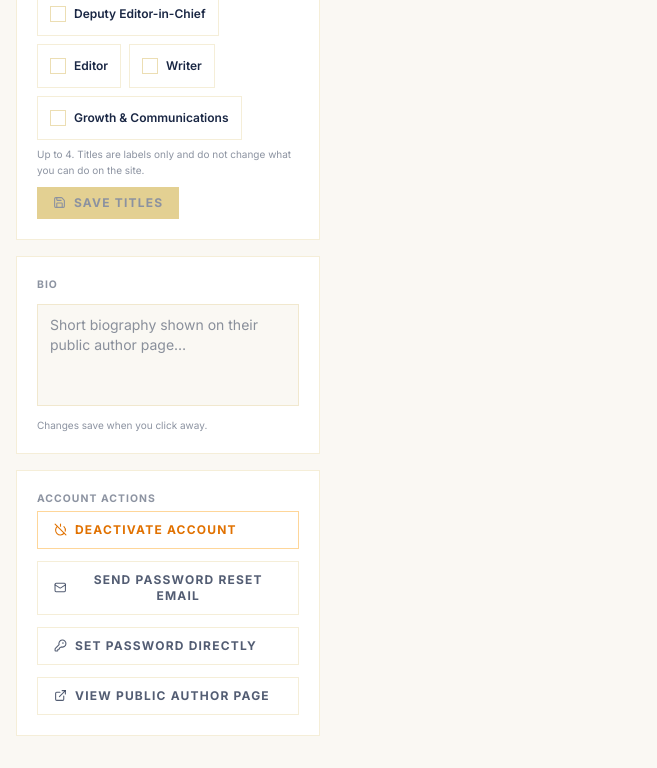
Test: an earlier success timer cannot erase a later password validation error
(page scrolled)
Click the button "Deactivate Account": coordinates (168, 530) [37, 511, 299, 549]
Wait 2900 ms
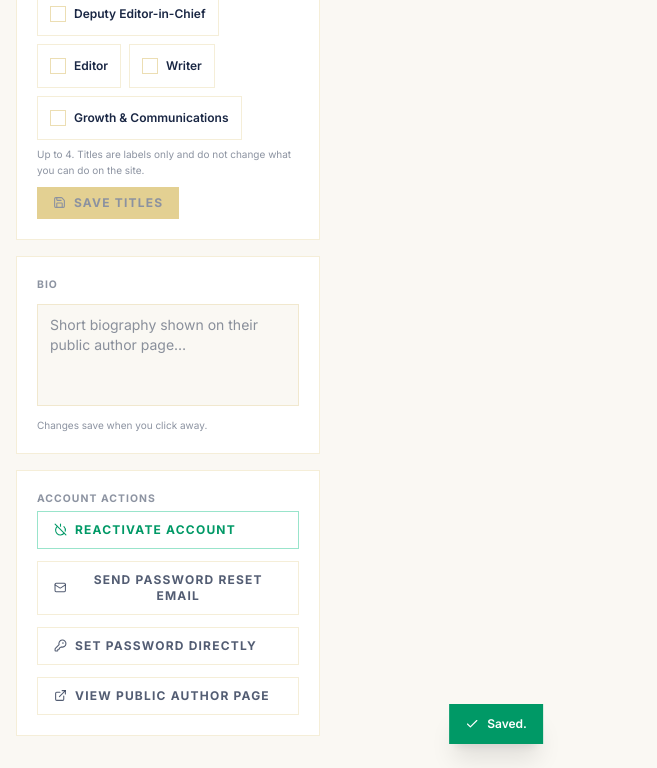
Expected: the message reads "Saved.", [487, 716, 527, 731]
Click the button "Set Password Directly": coordinates (168, 646) [37, 627, 299, 665]
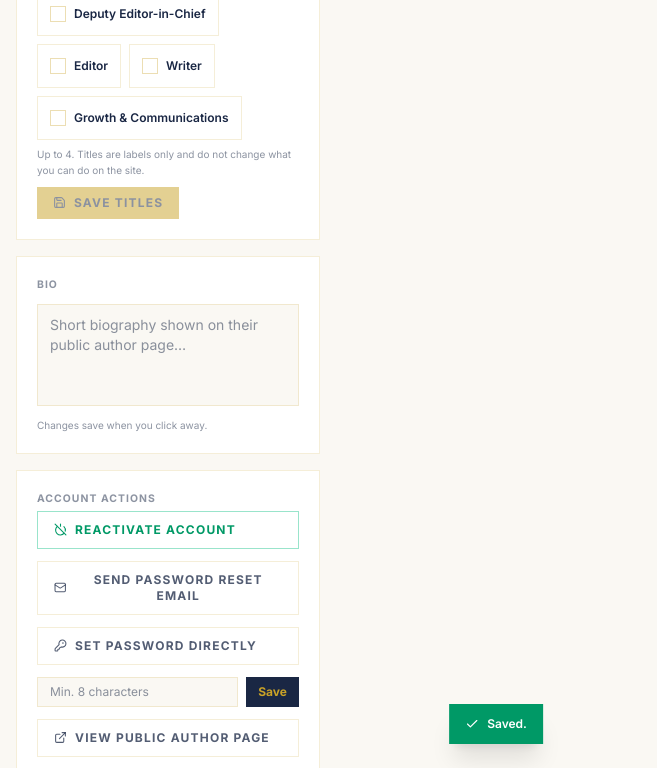
In the password field named "New password": coordinates (138, 692) [37, 677, 238, 707], type "short"
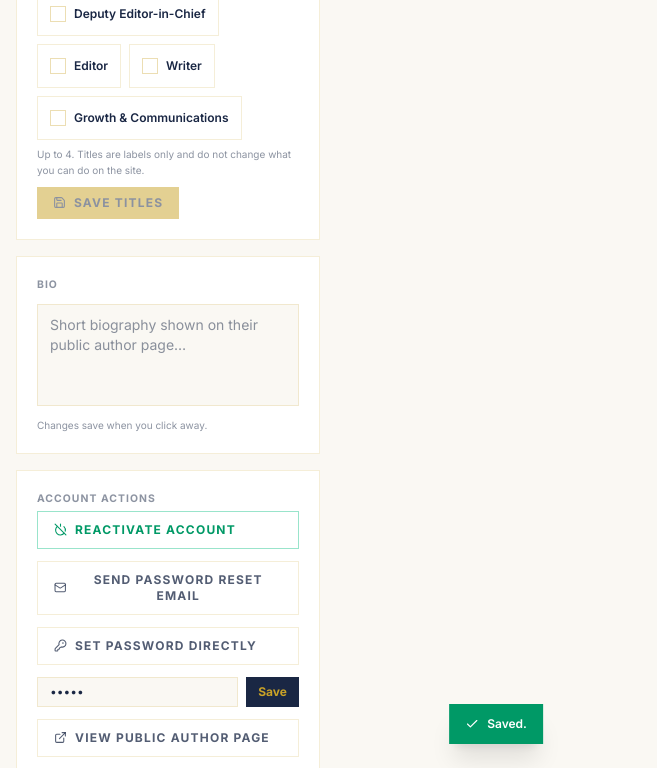
Click the button "Save": coordinates (273, 692) [246, 677, 299, 707]
Wait 3000 ms
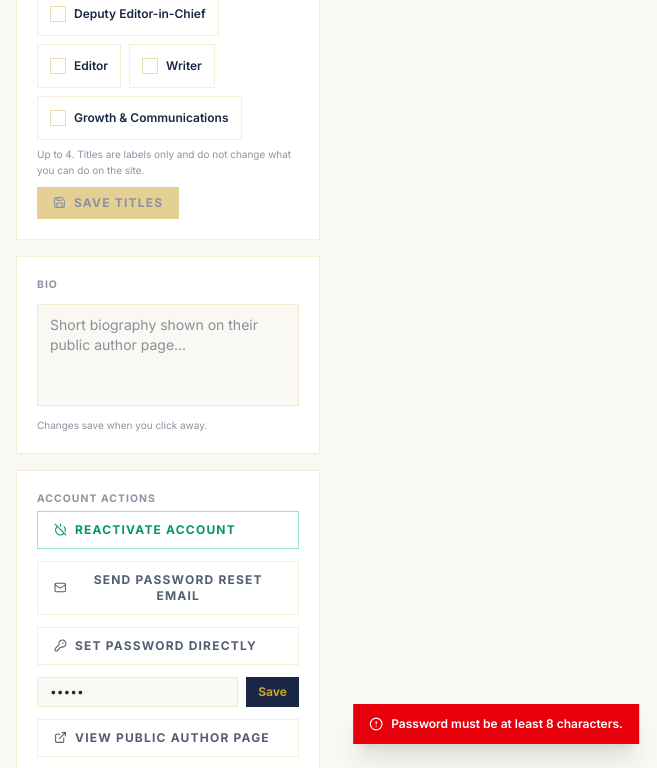
Expected: the message reads "Password must be at least 8 characters.", [391, 716, 623, 731]
